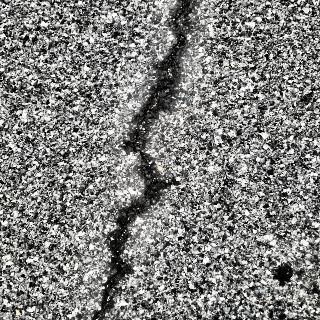crack: (96, 1, 194, 320)
